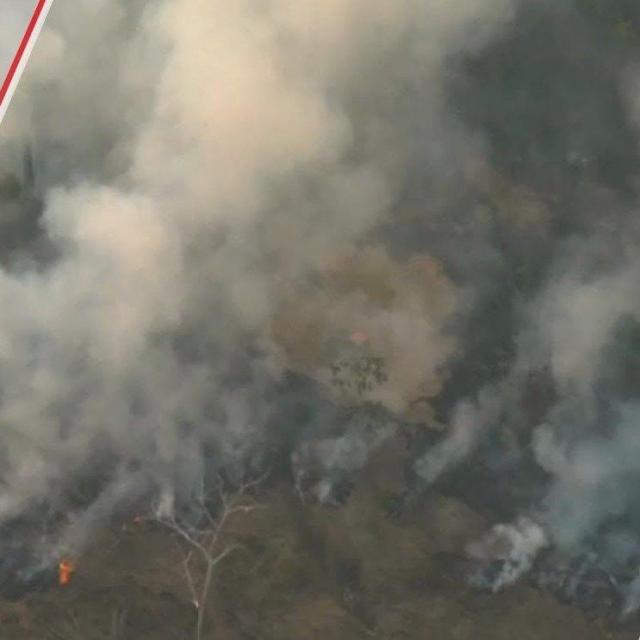Smoke: (27, 64, 466, 512)
